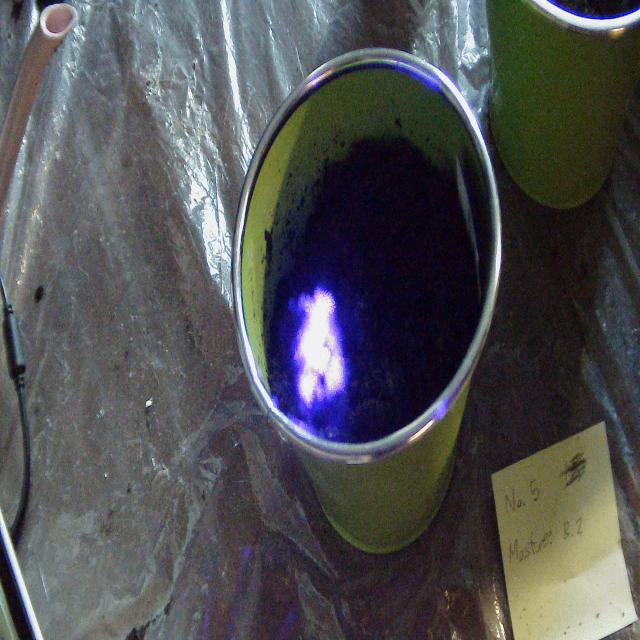soil-moisture-8.2: (285, 286, 350, 411)
